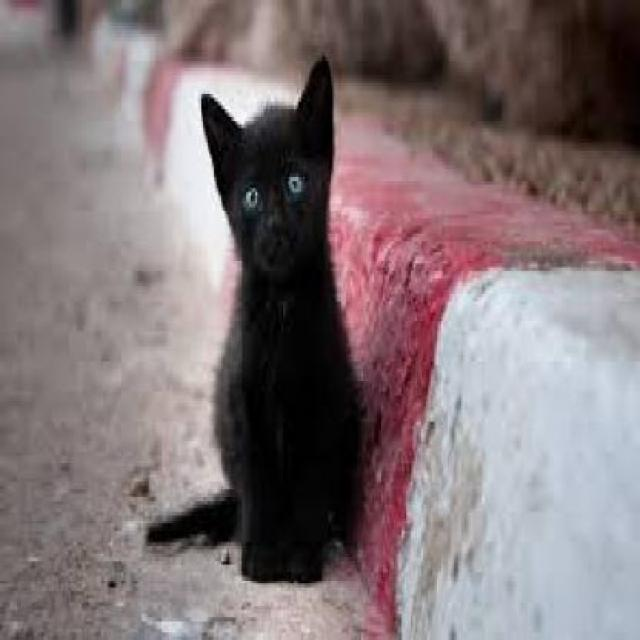animals: (142, 49, 361, 588)
